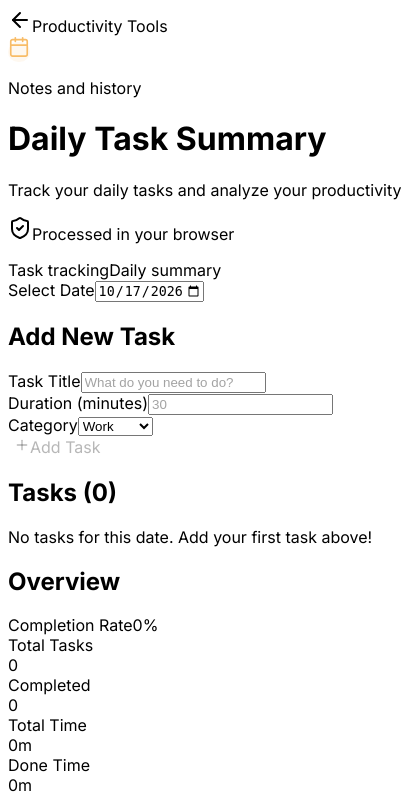
it: Daily Task Summary - Add Task › allows adding a new task
In the field labelled "Task Title": (173, 382) [80,372,266,393], type "Complete project"
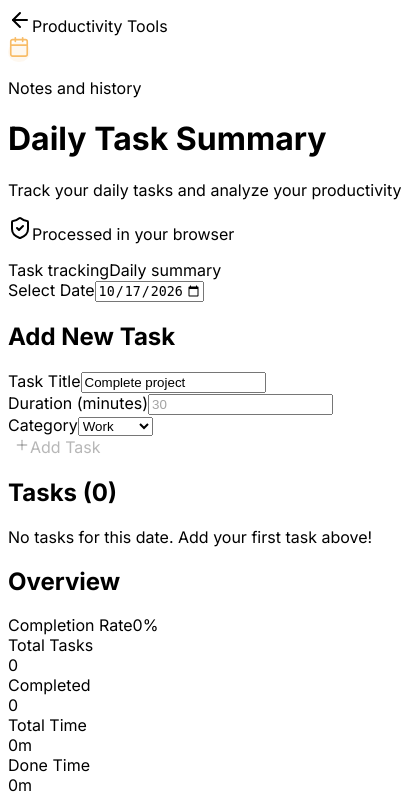
In the number field labelled "Duration (minutes)": (240, 404) [148,394,333,415], type "60"
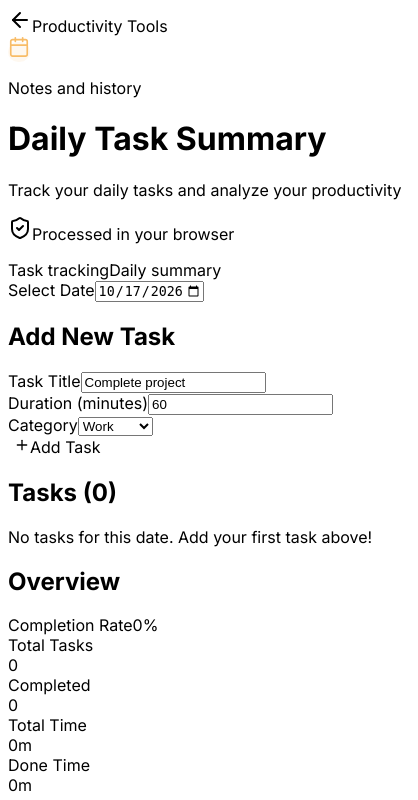
Click the button: (57, 447) [8,436,106,458]
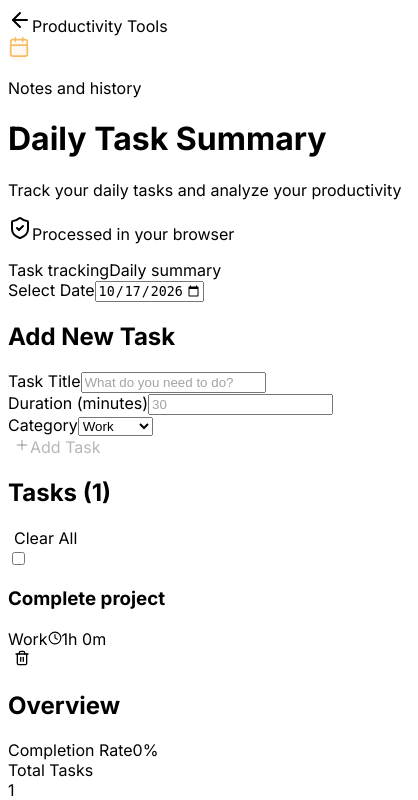
expect the heading "Complete project" is shown: met, box [8,587,165,610]
